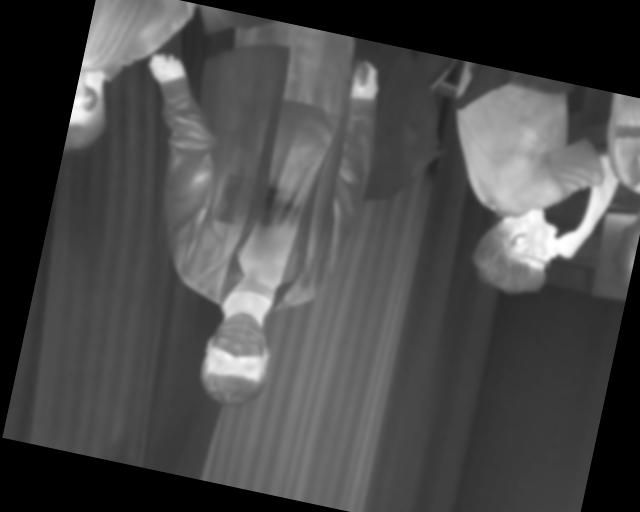face: (195, 304, 279, 412)
